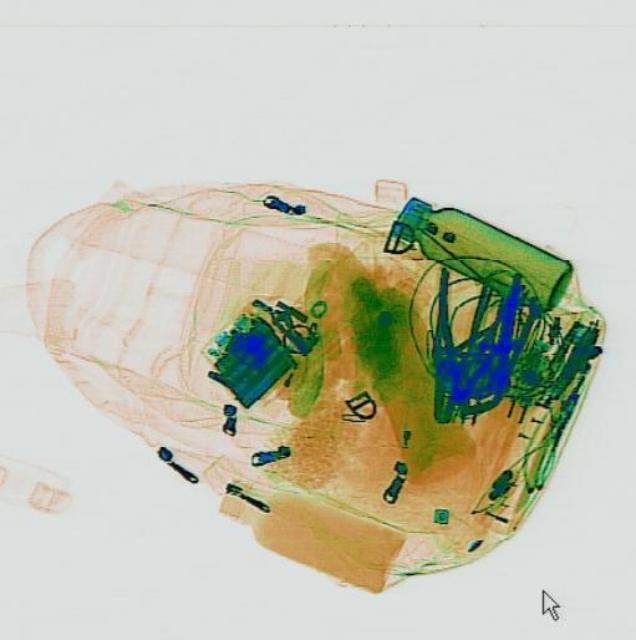Pliers: (413, 266, 492, 426), (431, 279, 502, 427)
